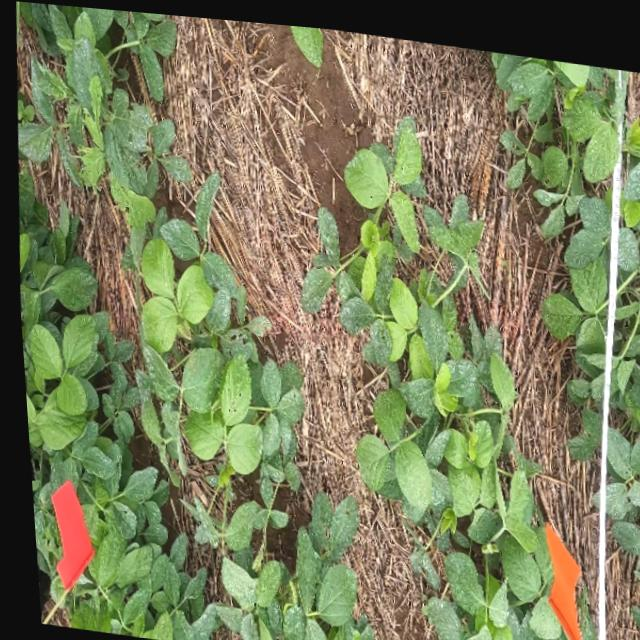soy_plant: (215, 352, 247, 422)
